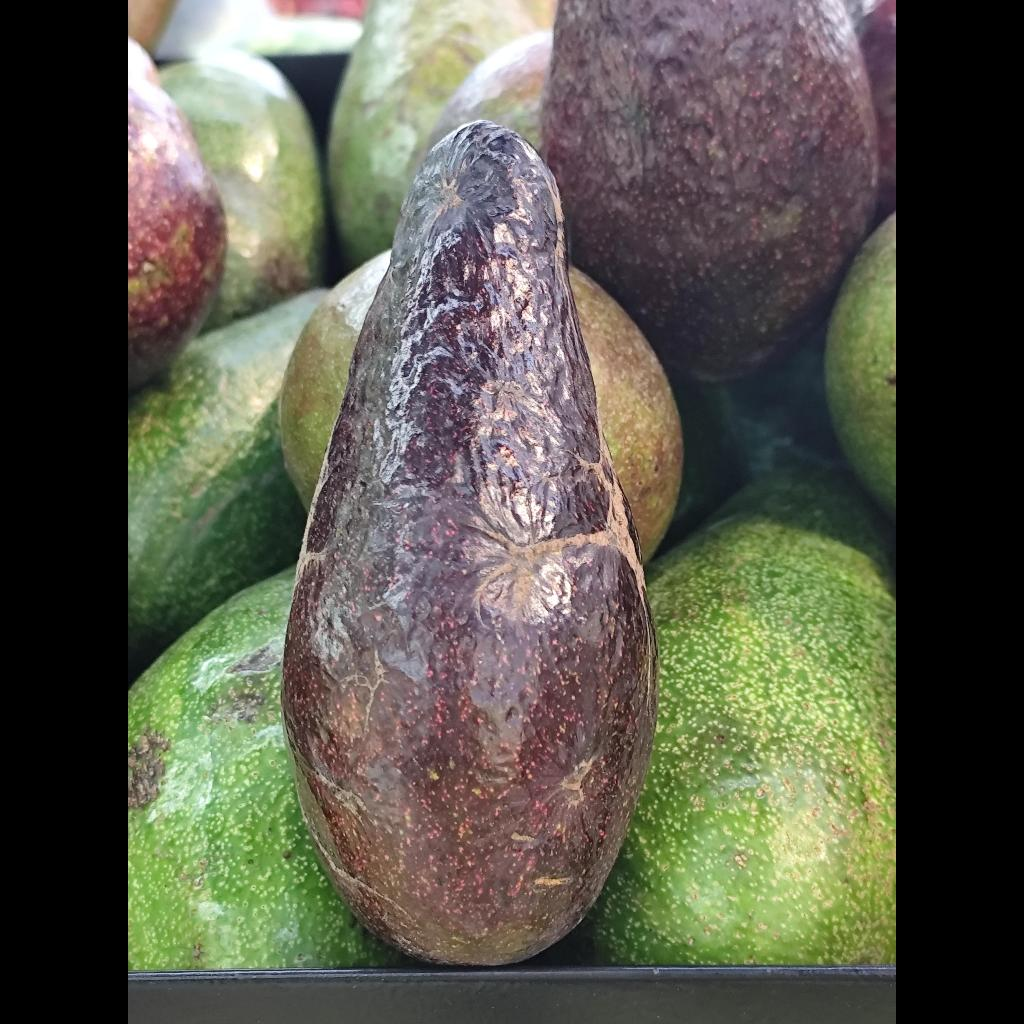anthracnose: (540, 0, 878, 380)
scab: (282, 121, 658, 964)
